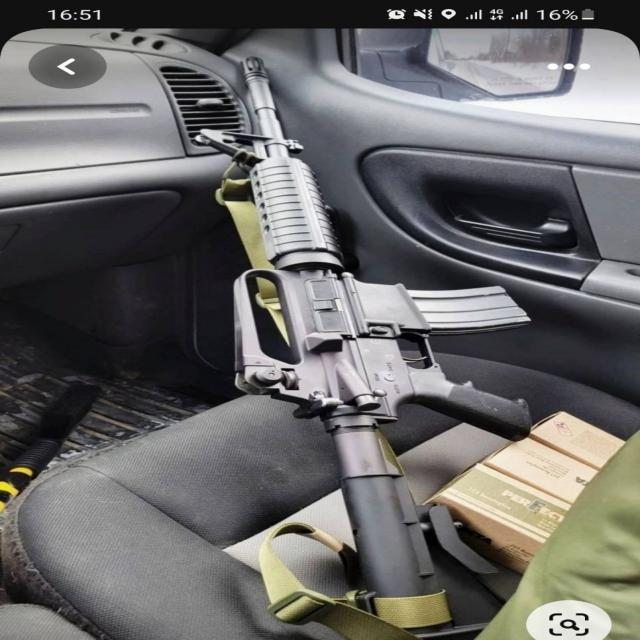m16: (116, 115, 530, 621)
